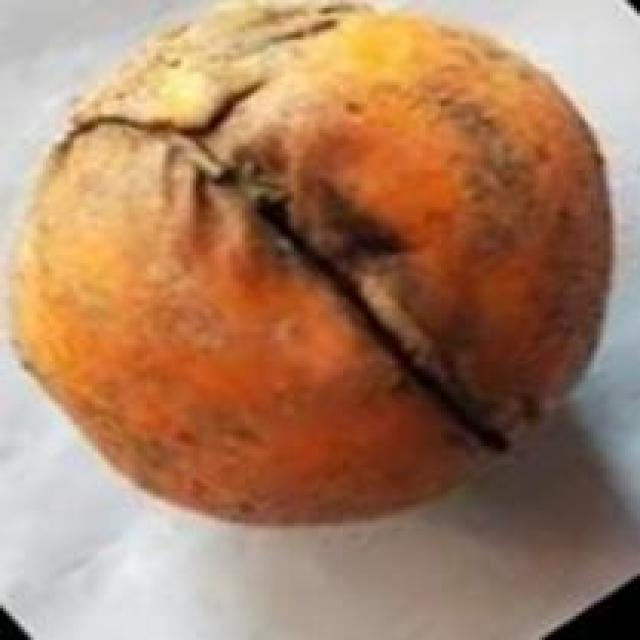damaged: (12, 0, 609, 520)
